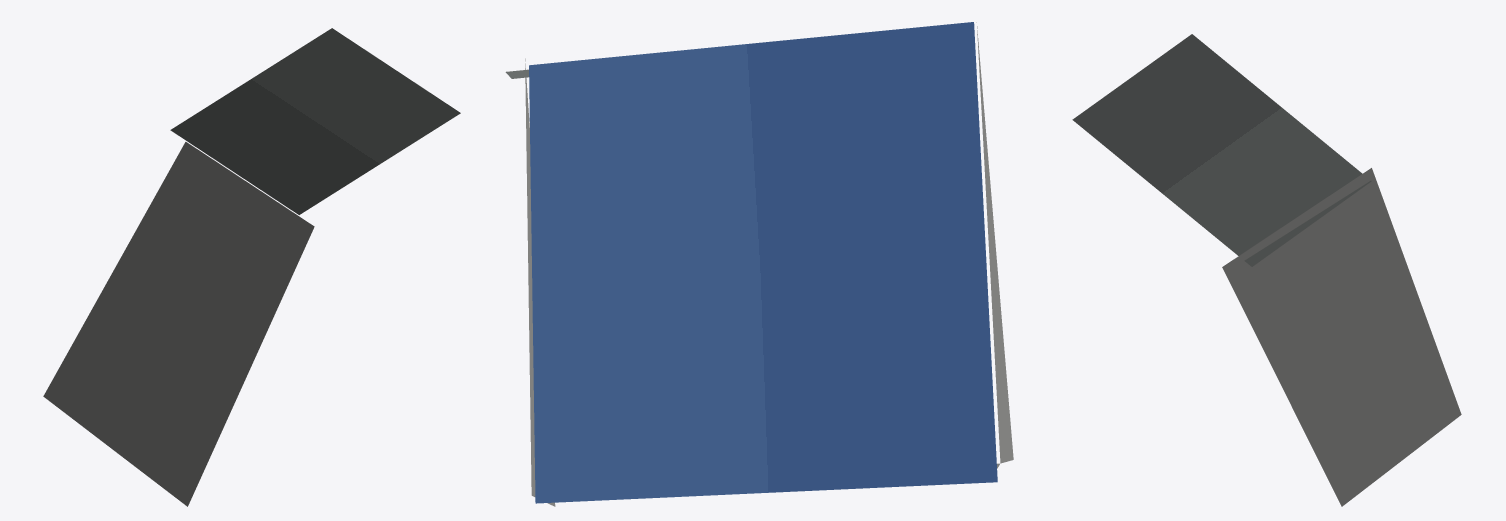
The model's file is tile_LOD3_r0_c5.glb.
3 views of the same model, side by side, from view 1: azimuth 30°, elevation 25°; view 2: azimuth 150°, elevation 25°; view 3: azimuth 270°, elevation 25° (orthographic). The views are drawn at different scales.
Bounding box in the file's own units: 7.75 × 6.75 × 7.5.
4 materials, 2 textured.
